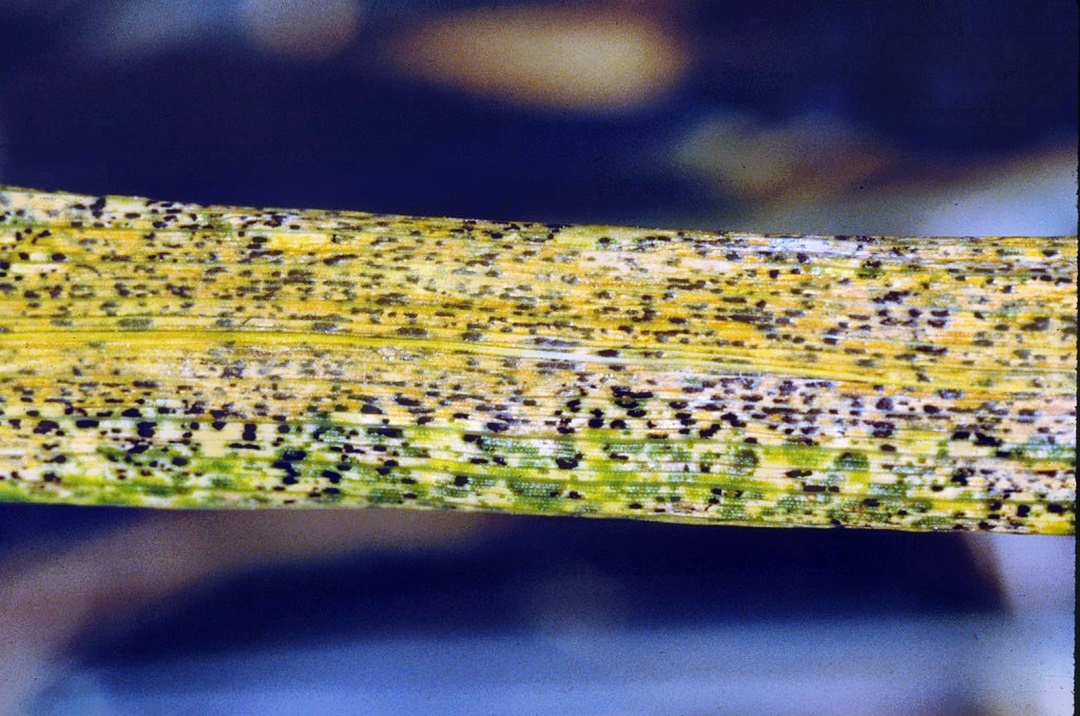Leaf Rust: (29, 194, 1019, 548)
